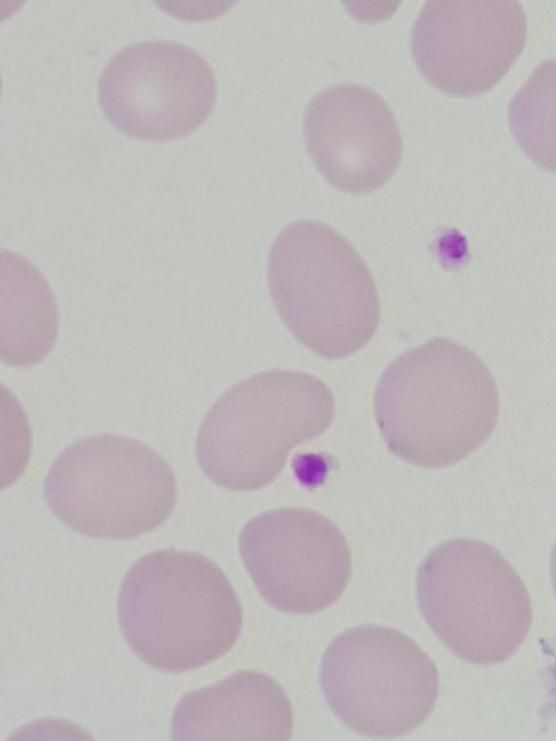Uninfected: (193, 370, 333, 490), (373, 339, 500, 468), (115, 548, 242, 673), (264, 219, 378, 358), (414, 537, 533, 664), (44, 435, 177, 540), (318, 625, 438, 738), (237, 507, 350, 616), (97, 40, 213, 143), (303, 80, 402, 196), (411, 0, 524, 95), (170, 671, 290, 740)
